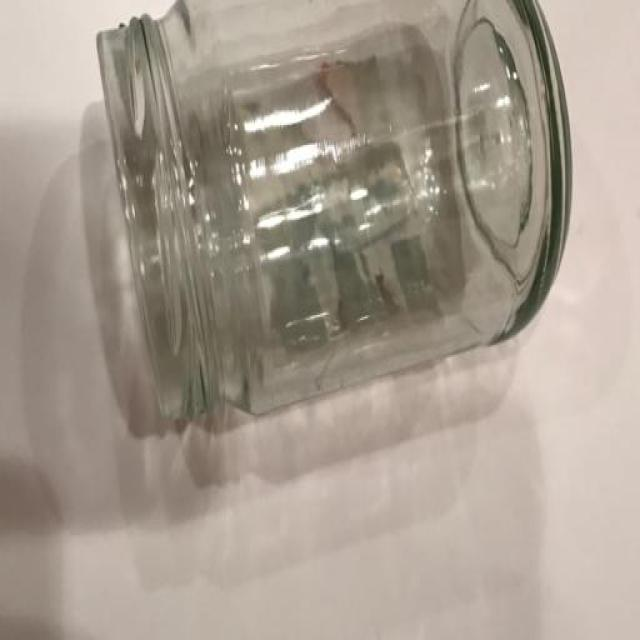glass: (89, 0, 573, 434)
